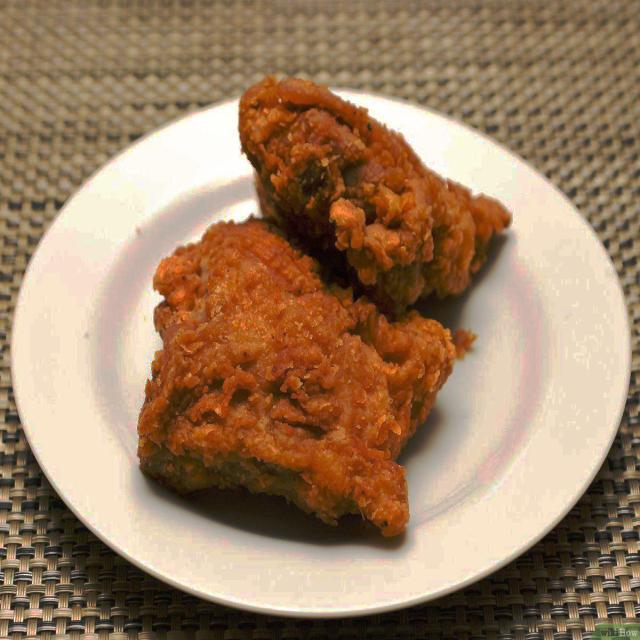fried_chicken: (135, 218, 455, 540), (240, 74, 511, 310)
